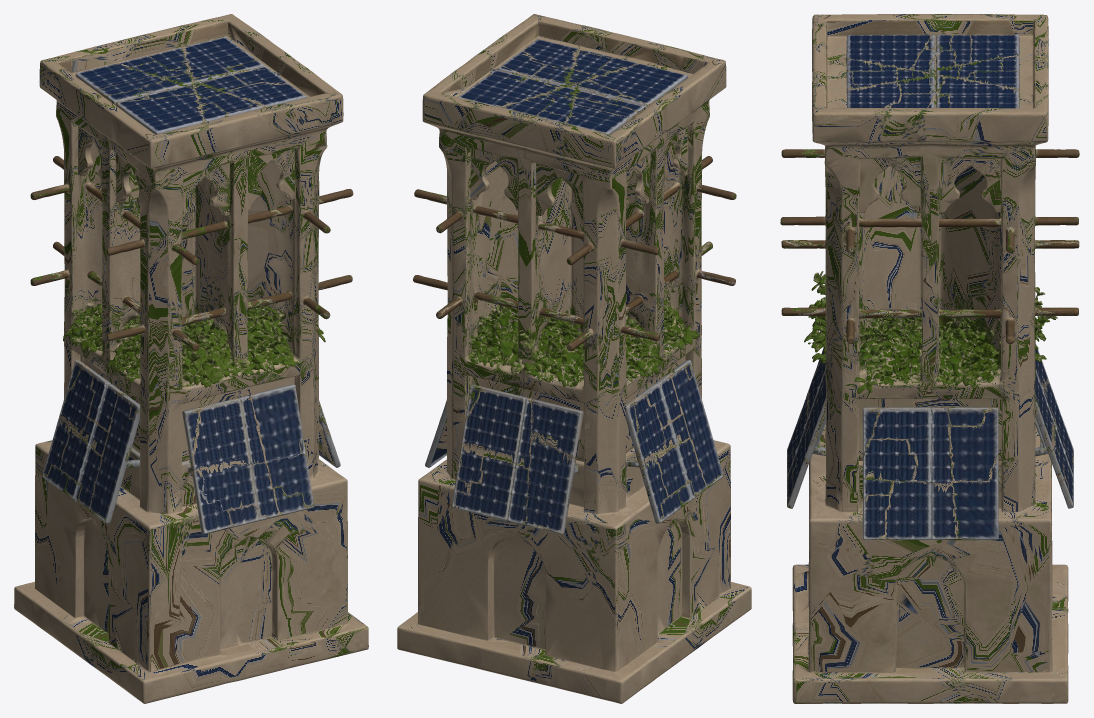
Rendered from windtower.glb.
3 renders of one model, left to right at view 1: azimuth 30°, elevation 25°; view 2: azimuth 150°, elevation 25°; view 3: azimuth 270°, elevation 25°, orthographic. The views are drawn at different scales.
Size of the model in its own units: 0.8831 by 1.9 by 0.8831.
Materials: 1 (1 with a texture image).
